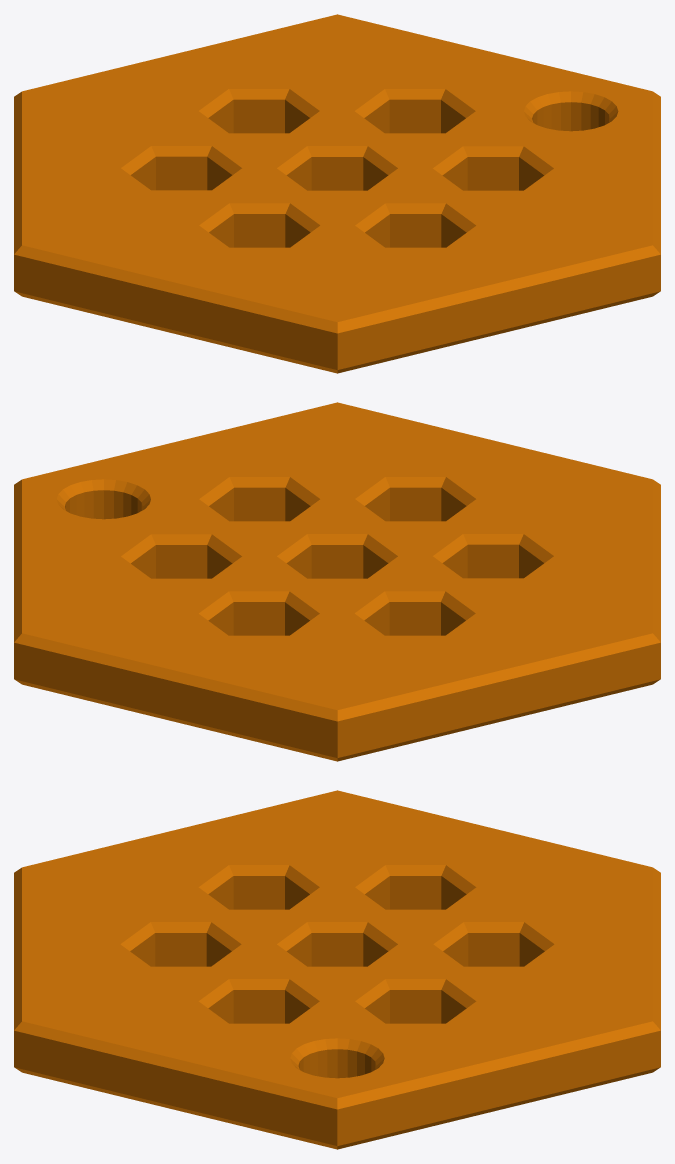
Rendered from llavero-panal.glb.
The picture shows the model from 3 angles, top to bottom: view 1: azimuth 30°, elevation 25°; view 2: azimuth 150°, elevation 25°; view 3: azimuth 270°, elevation 25°; orthographic projection.
Parts seen in each view (by area): view 1: llavero-panal; view 2: llavero-panal; view 3: llavero-panal.
Boxes of the visible parts, bbox=[...] form: llavero-panal: bbox=[14, 14, 660, 373]; llavero-panal: bbox=[14, 402, 660, 761]; llavero-panal: bbox=[14, 790, 660, 1149].
Size of the model in its own units: 0.0831 by 0.0063 by 0.0719.
